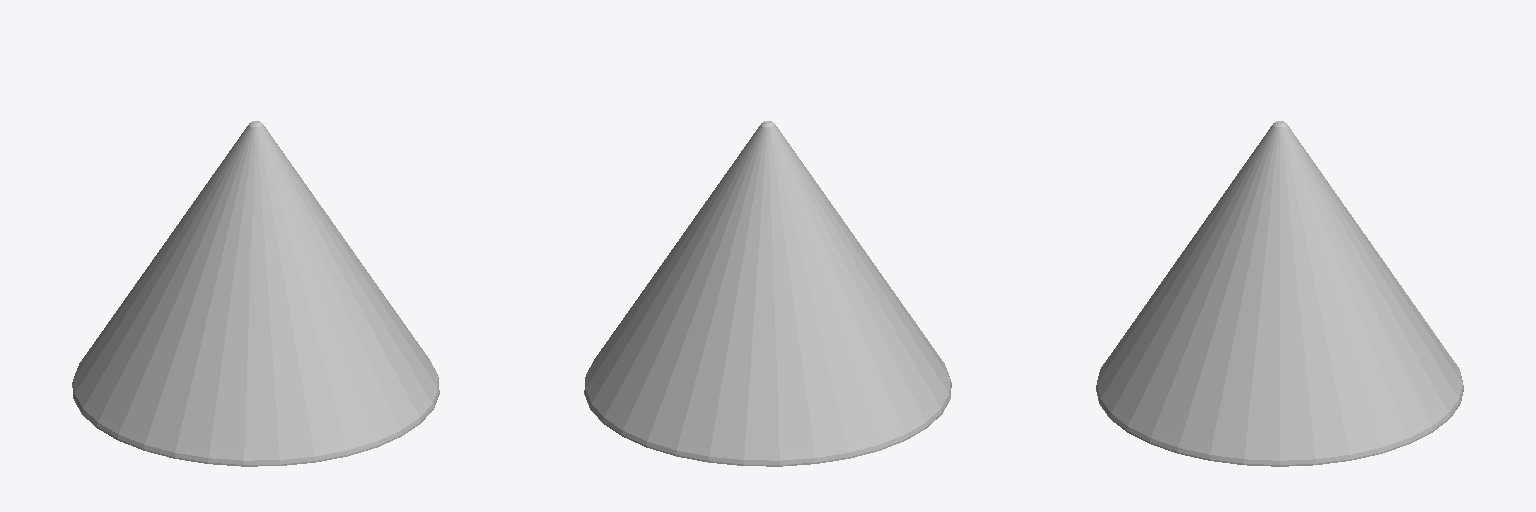
The model's file is Saturn V_1.obj.
The picture shows the model from 3 angles: view 1: azimuth 30°, elevation 25°; view 2: azimuth 150°, elevation 25°; view 3: azimuth 270°, elevation 25°; orthographic projection.
Visible parts, largest first — view 1: Apollo_Capsule_Cylinder.007; view 2: Apollo_Capsule_Cylinder.007; view 3: Apollo_Capsule_Cylinder.007.
Part boxes in pixels (x1,y1,x2,y2): Apollo_Capsule_Cylinder.007: (72,121,439,466); Apollo_Capsule_Cylinder.007: (584,121,951,466); Apollo_Capsule_Cylinder.007: (1096,121,1463,466).
Size of the model in its own units: 3.91 by 3.13 by 3.91.